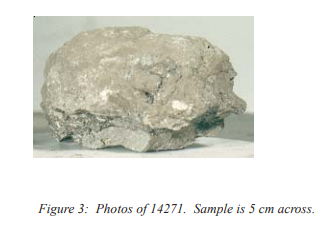Breccia: (44, 25, 249, 153), (88, 52, 221, 133), (66, 62, 209, 134)
